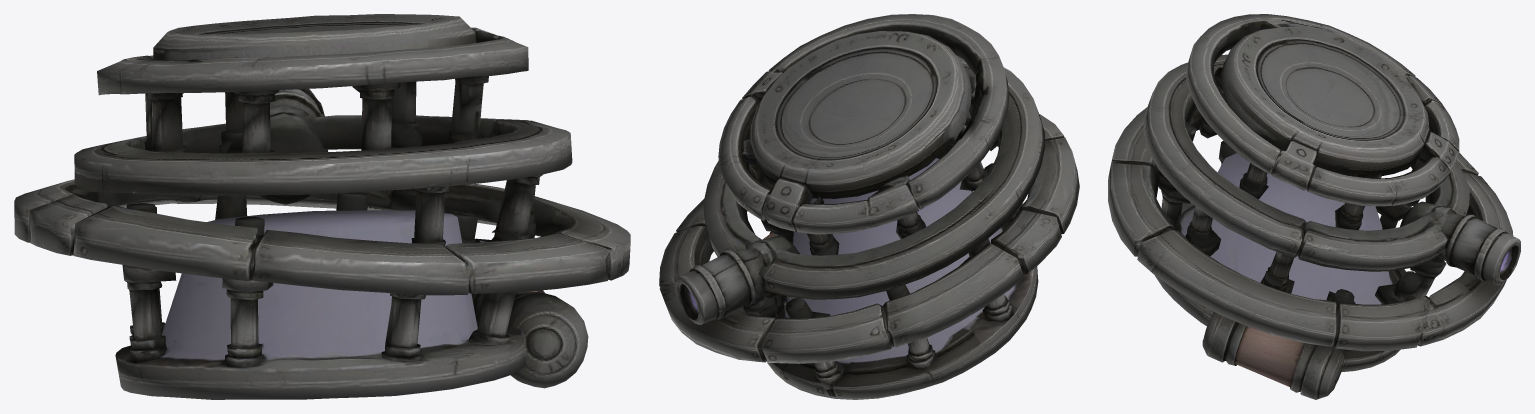
File: relay-stack.glb
3 renders of one model, left to right at view 1: azimuth 30°, elevation 25°; view 2: azimuth 150°, elevation 25°; view 3: azimuth 270°, elevation 25°, orthographic. The views are drawn at different scales.
Parts seen in each view (by area): view 1: tripo_node_3f59c642-8fa3-4843-8b18-ed81bb86c1db; view 2: tripo_node_3f59c642-8fa3-4843-8b18-ed81bb86c1db; view 3: tripo_node_3f59c642-8fa3-4843-8b18-ed81bb86c1db.
Boxes of the visible parts, x1,y1,x2,y2 form: tripo_node_3f59c642-8fa3-4843-8b18-ed81bb86c1db: (14,14,630,399); tripo_node_3f59c642-8fa3-4843-8b18-ed81bb86c1db: (659,14,1079,399); tripo_node_3f59c642-8fa3-4843-8b18-ed81bb86c1db: (1108,14,1520,399).
Bounding box in the file's own units: 0.9746 × 0.7598 × 0.998.
Materials: 1 (1 with a texture image).
